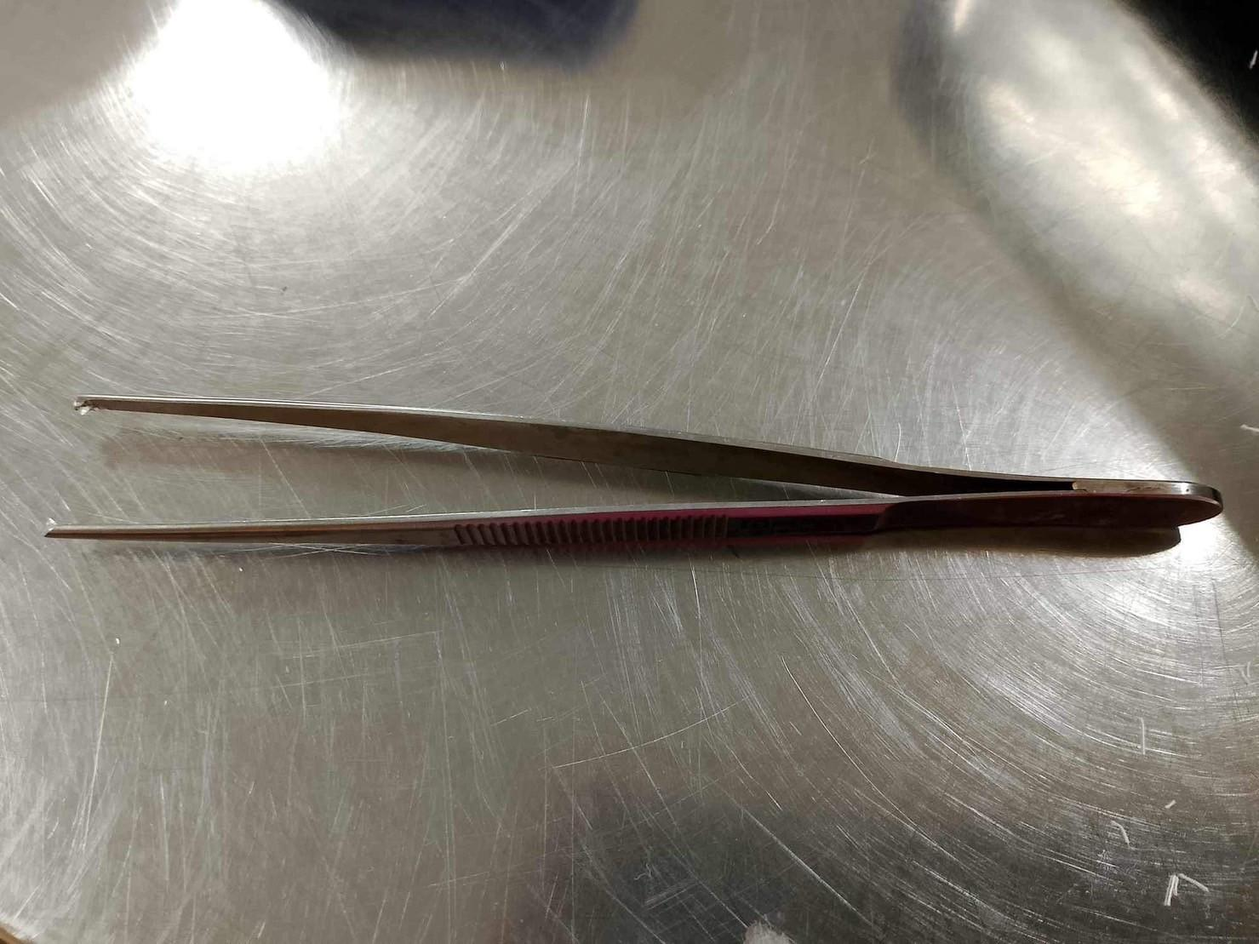General: (41, 390, 1225, 557)
Pathological: (4, 3, 1253, 940)
